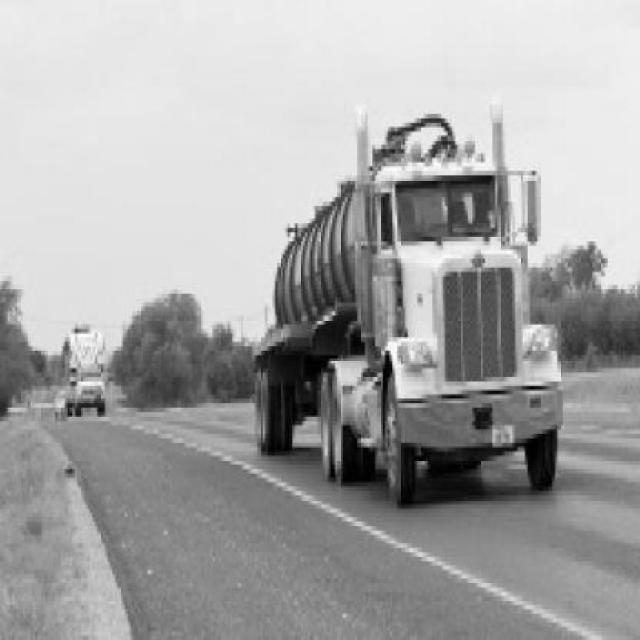Box Truck: (254, 97, 565, 511)
